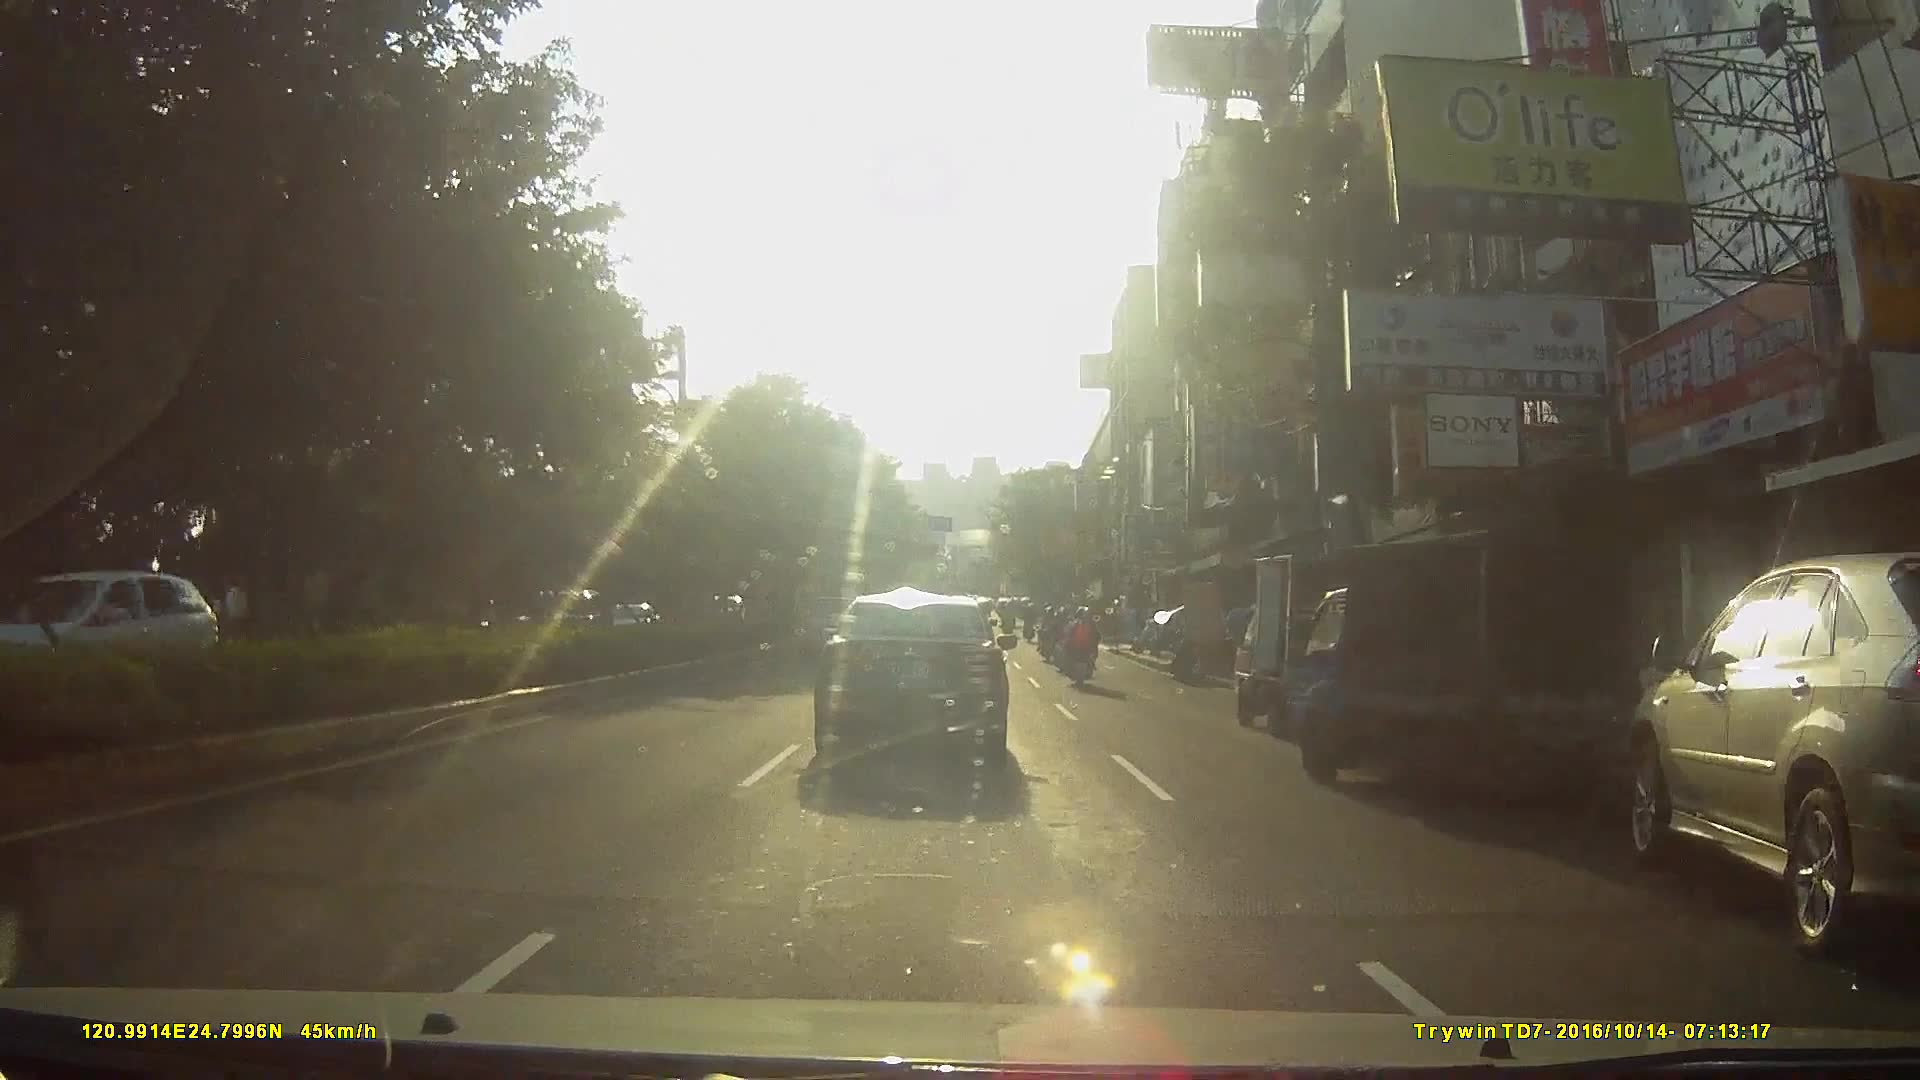rider: (1059, 607, 1102, 696), (1039, 606, 1060, 663)
vehicle: (1608, 547, 1920, 952), (1290, 513, 1691, 823), (1223, 544, 1443, 742), (811, 589, 1031, 781), (1, 566, 224, 687)
